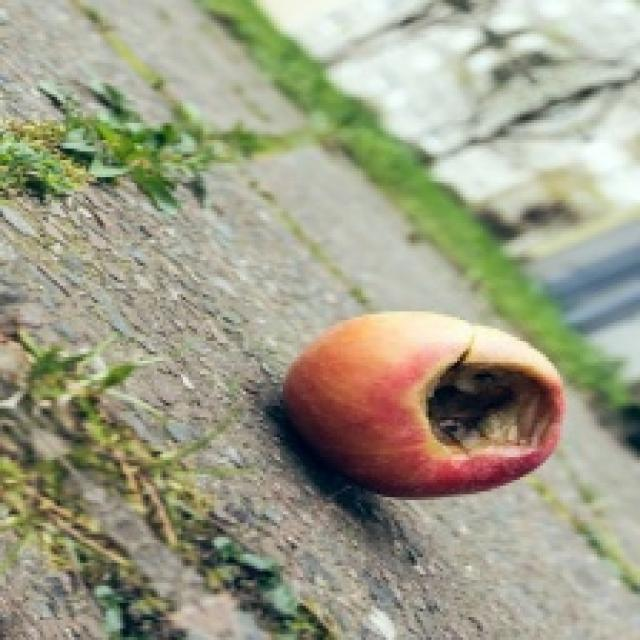rotten_apple: (287, 313, 563, 493)
